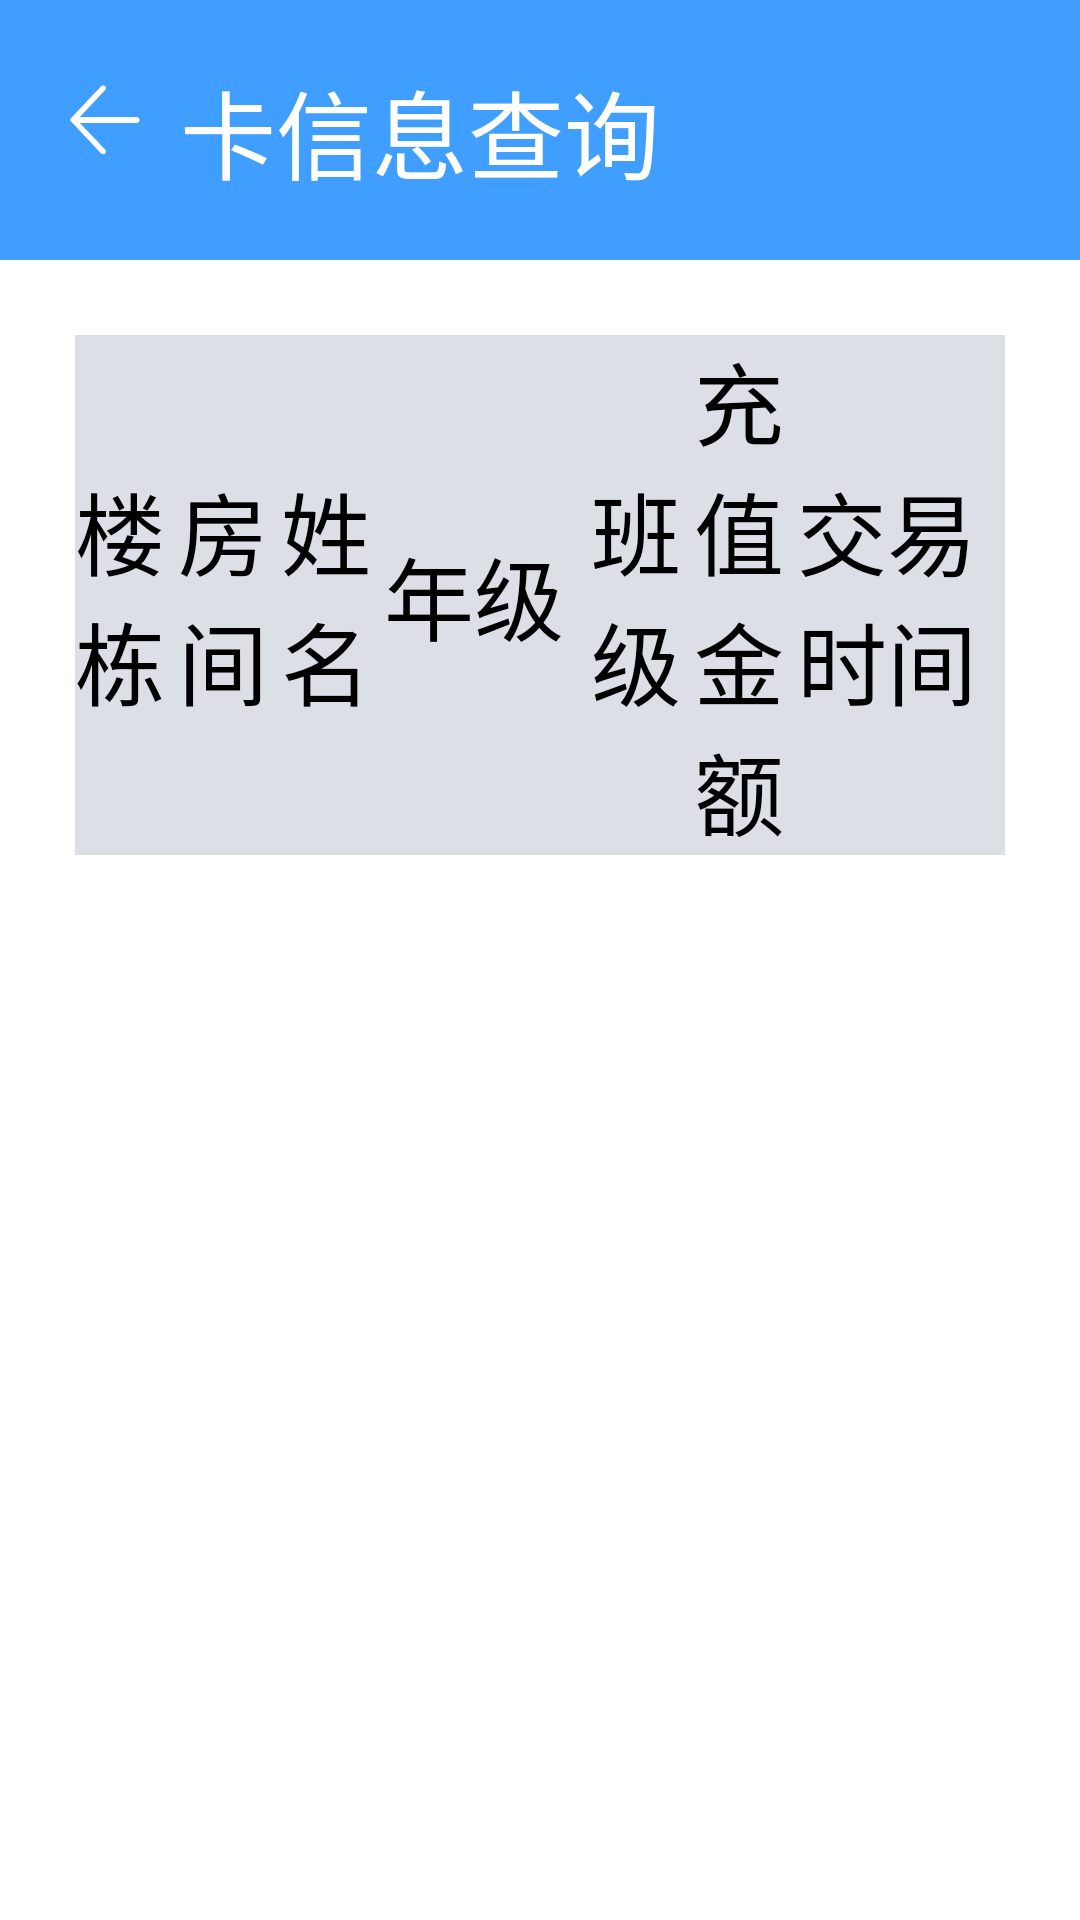

Point at icon controls on the screen. Image size 1080×1920, points as (x,y).
direction left: (105,119)
